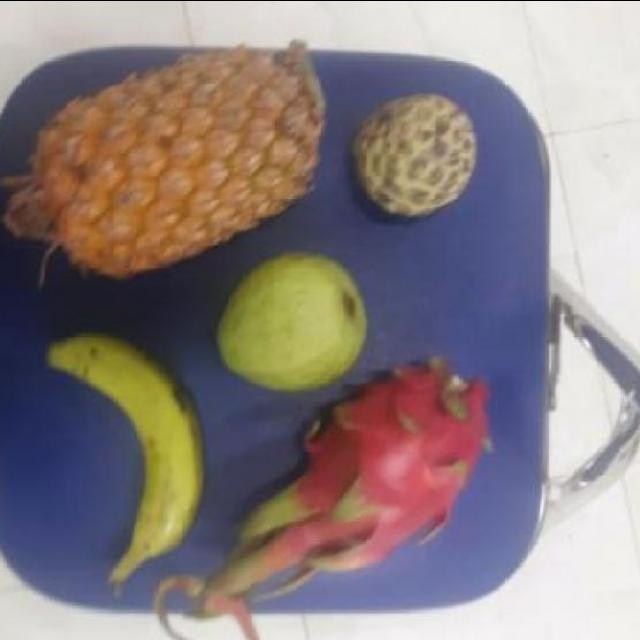dragon fruit: (291, 360, 489, 572)
guava: (216, 250, 368, 395)
pineapple: (11, 56, 327, 272)
sugar apple: (353, 93, 473, 222)
